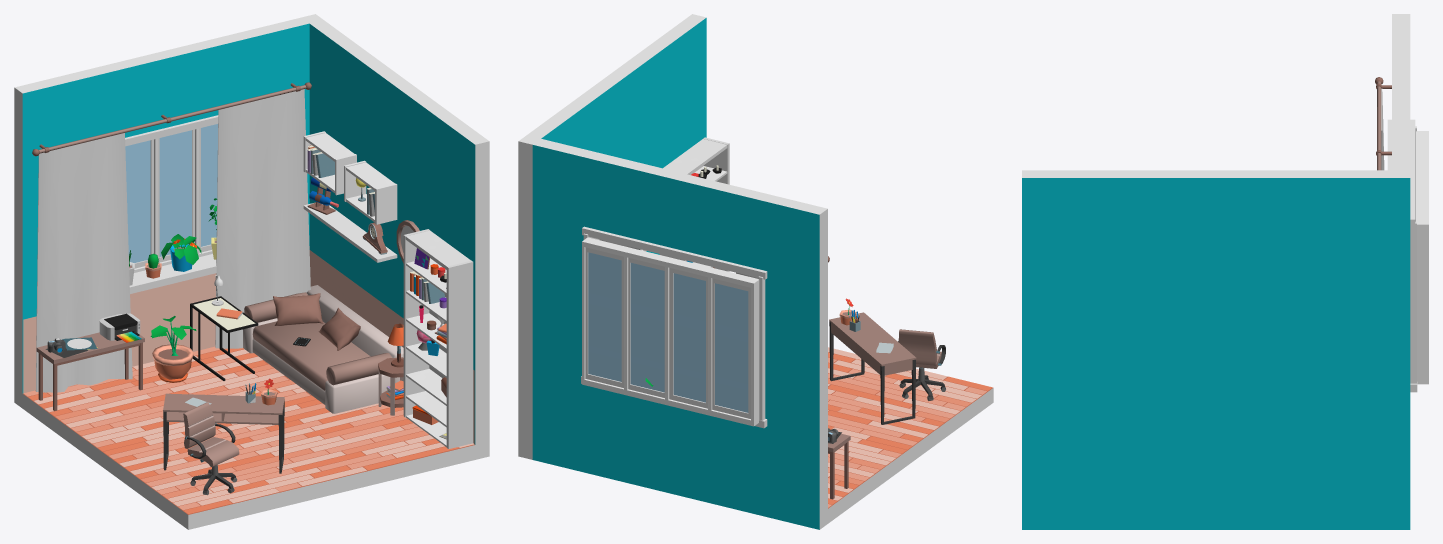
Rendered from room_6.glb.
3 views of the same model, side by side, from view 1: azimuth 30°, elevation 25°; view 2: azimuth 150°, elevation 25°; view 3: azimuth 270°, elevation 25° (orthographic). The views are drawn at different scales.
Parts seen in each view (by area): view 1: Walls_094.004, floor_003.001, Curtains_009.001, Curtains_009.002, Walls_043.001, Walls_094.006, sofa_004.001, shelf_053.001, window_011.001, Walls_094.005, carpet_007.001, Walls_094.003 (+19 smaller); view 2: window_011.001, Walls_094.005, Walls_094.004, Walls_094.003, Walls_094.007, Walls_094.006, floor_003.001, Walls_043.001, office_table_029.001, shelf_053.001, office_chair_009.001, Walls_005.065 (+2 smaller); view 3: Walls_094.004, window_011.001, Walls_094.006, Walls_005.064, Walls_005.065, Walls_094.003, Walls_094.005, Curtains_025.001.
Boxes of the visible parts, x1,y1,x2,y2 form: Walls_094.004: (301,14,489,459); floor_003.001: (23,346,474,513); Curtains_009.001: (35,133,132,392); Curtains_009.002: (215,89,310,348); Walls_043.001: (22,349,475,529); Walls_094.006: (72,31,252,139); sofa_004.001: (243,285,403,413); shelf_053.001: (403,229,473,448); window_011.001: (125,124,217,272); Walls_094.005: (14,73,79,408); carpet_007.001: (23,273,216,393); Walls_094.003: (244,17,309,245); window_011.001: (582,237,759,426); Walls_094.005: (762,194,827,529); Walls_094.004: (518,14,706,459); Walls_094.003: (532,139,597,473); Walls_094.007: (590,386,762,515); Walls_094.006: (590,152,769,269); floor_003.001: (828,347,992,507); Walls_043.001: (828,352,993,523); office_table_029.001: (829,312,916,424); shelf_053.001: (659,137,729,271); office_chair_009.001: (898,329,945,400); Walls_005.065: (582,226,767,279); Walls_094.004: (1022,170,1410,529); window_011.001: (1416,131,1428,384); Walls_094.006: (1392,45,1410,138); Walls_005.064: (1410,221,1416,383); Walls_005.065: (1387,119,1415,227); Walls_094.003: (1392,139,1410,170); Walls_094.005: (1392,14,1410,45); Curtains_025.001: (1375,77,1391,170).
Bounding box in the file's own units: 4.2 × 4.2 × 4.4.
Materials: 1 (1 with a texture image).
